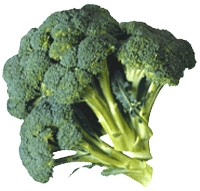broccoli: (0, 0, 197, 190)
